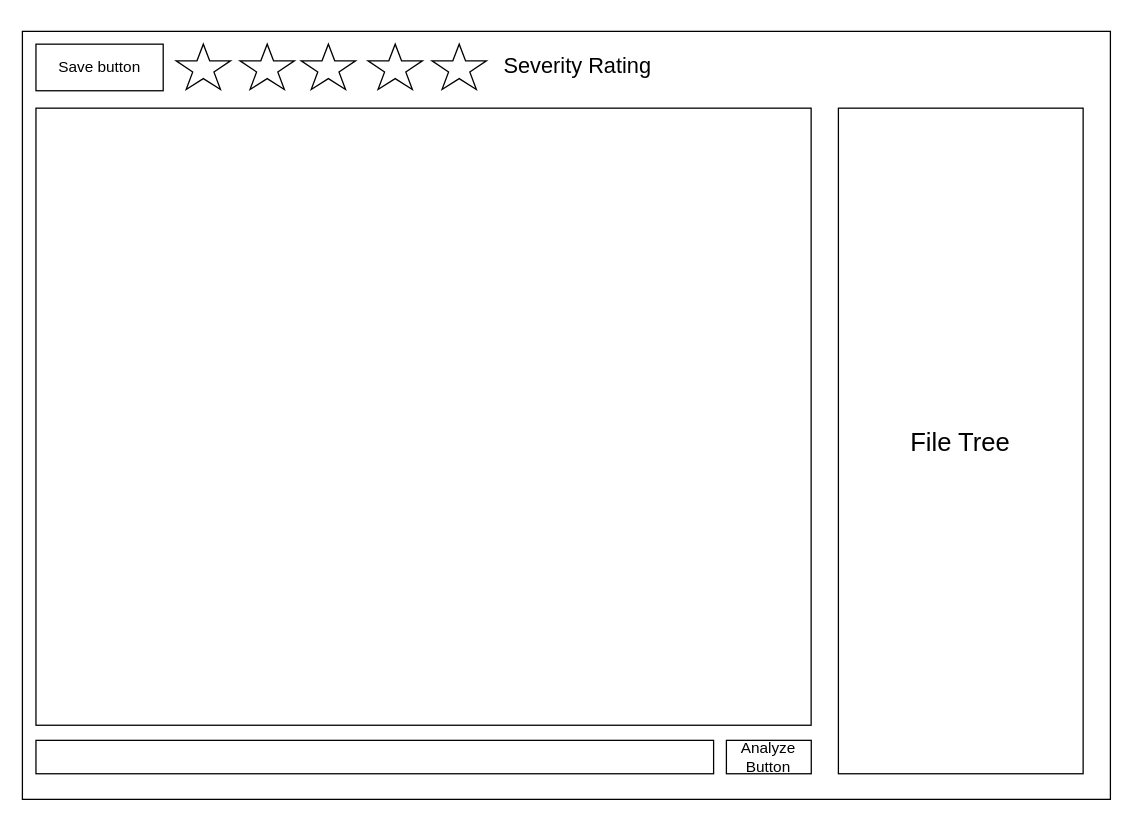
Some shapes in this 1133 by 823 pixel diagram are drawn without their labels. The centre of each missing label's shape, as x and y in pixels:
"Code Area" belongs at pixel 423 416.
"Repository Link" belongs at pixel 374 756.
